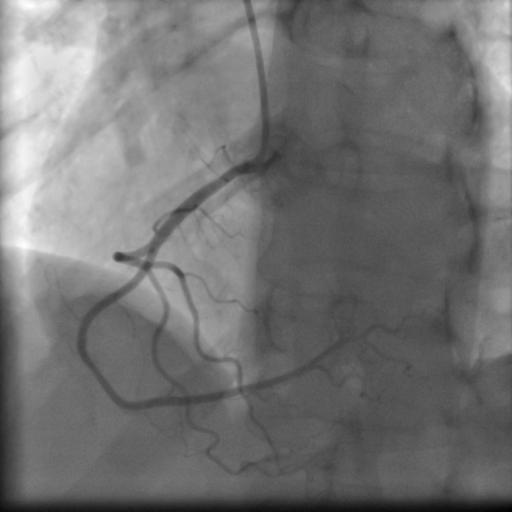Stenosis: (85, 348, 115, 400)
